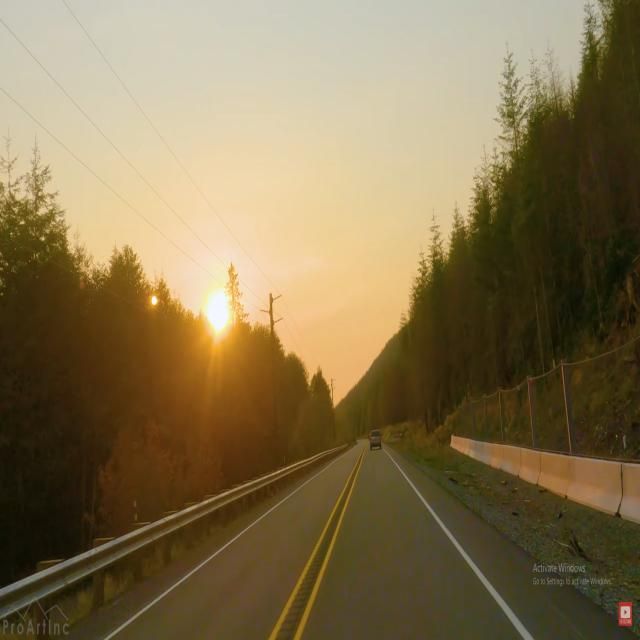sun: (201, 274, 236, 344)
